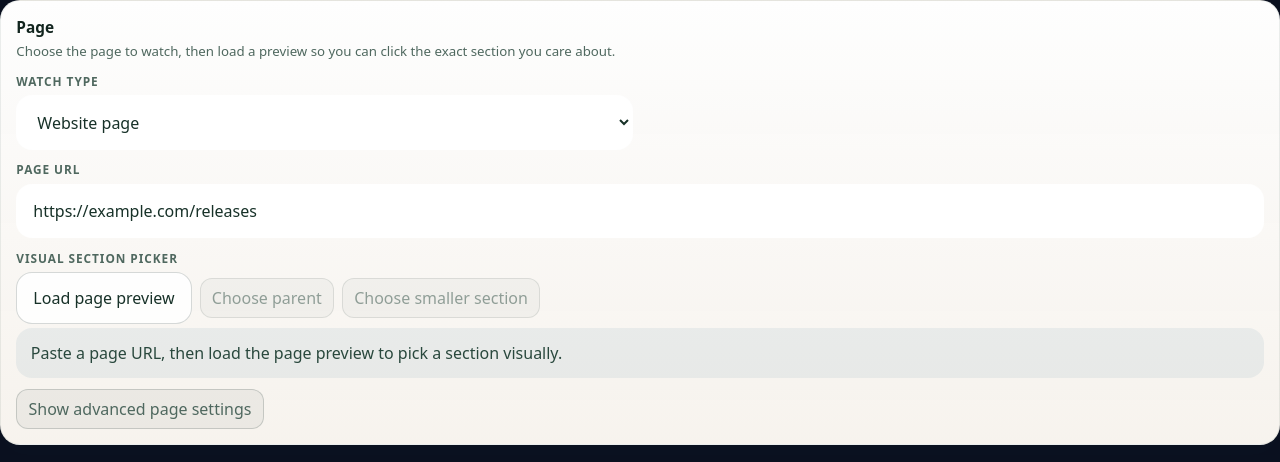
Scenario: SourceSection › surfaces loading and backend errors while keeping the picker contract explicit
This screenshot has width=1280, height=462.
What coordinates should you click on to do the following:
click the button "Load page preview"
I would click on:
 (104, 298)
Its box is [16,272,192,324].
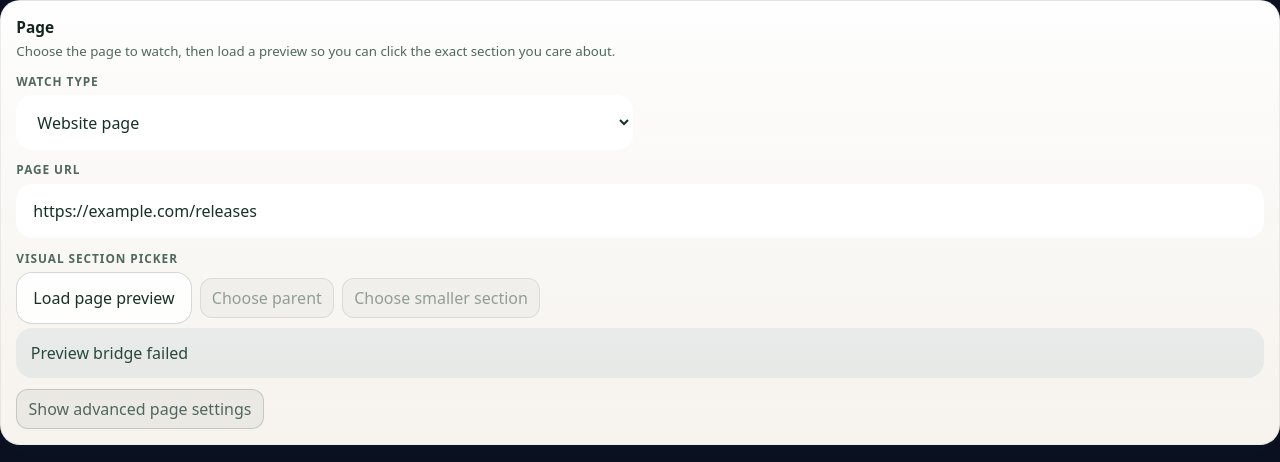
Expected: the text "Preview bridge failed" is shown, [16,328,1264,378]
